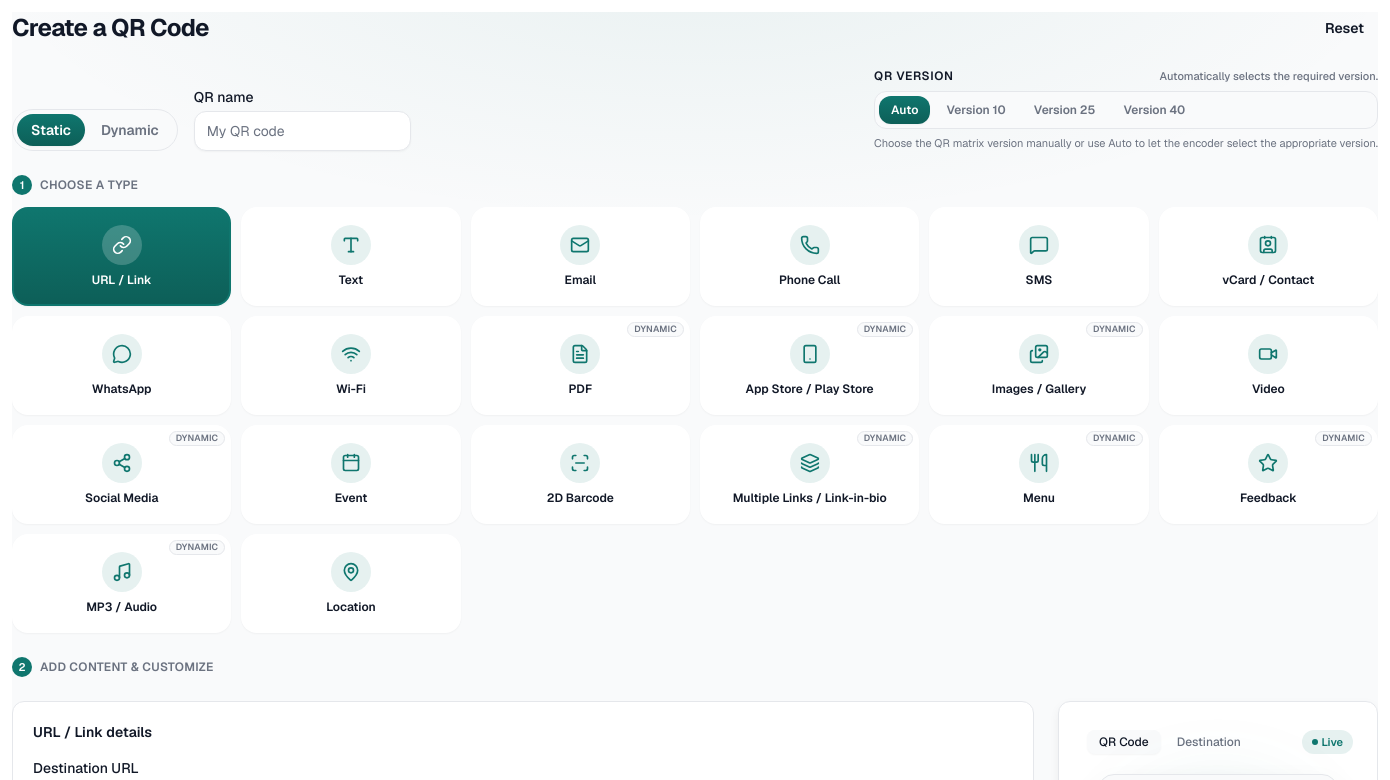
Test: QRGeneratorShell › clears the name field when Reset is clicked
Type "My QR" into the field labelled "QR name".
click(302, 131); type("My QR")  # box [194,111,411,151]
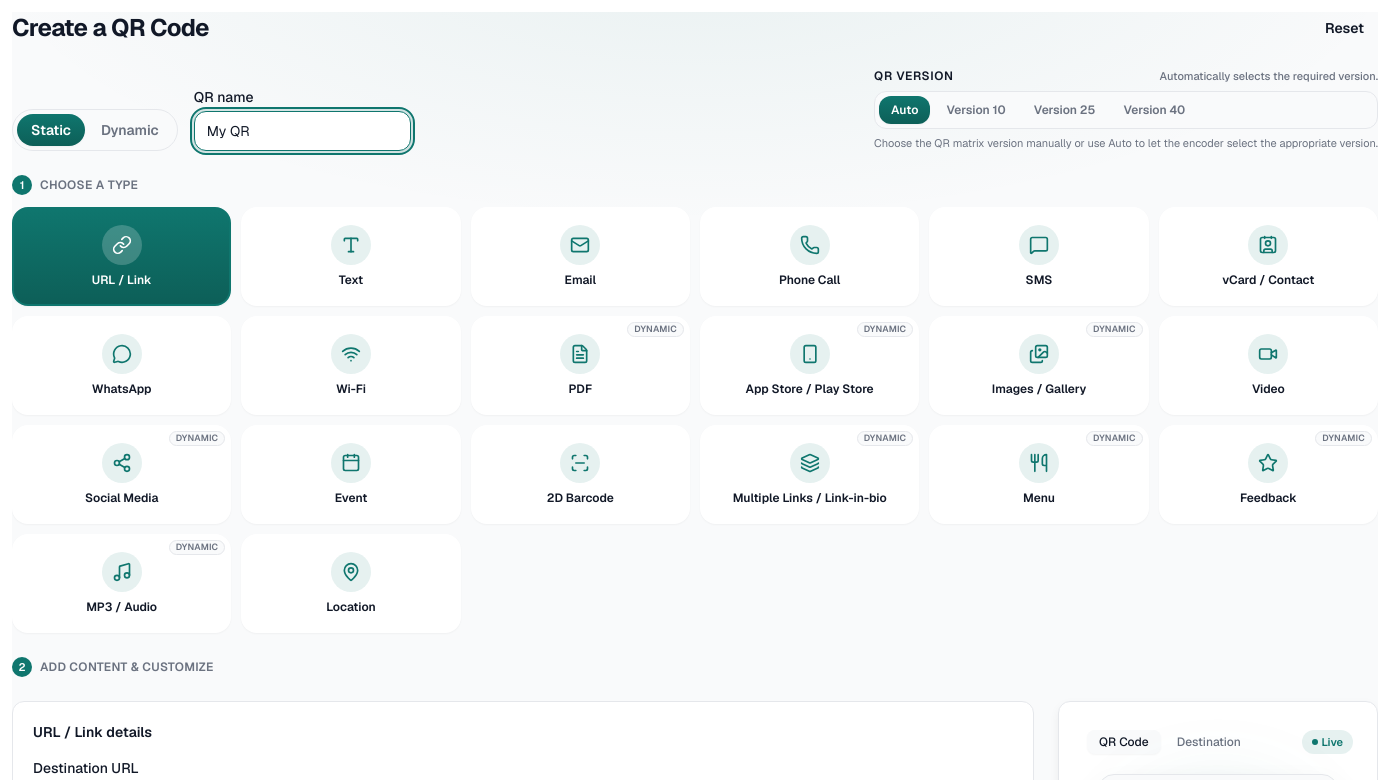
Click the button "Reset".
click(1344, 28)  # box [1311,12,1378,44]
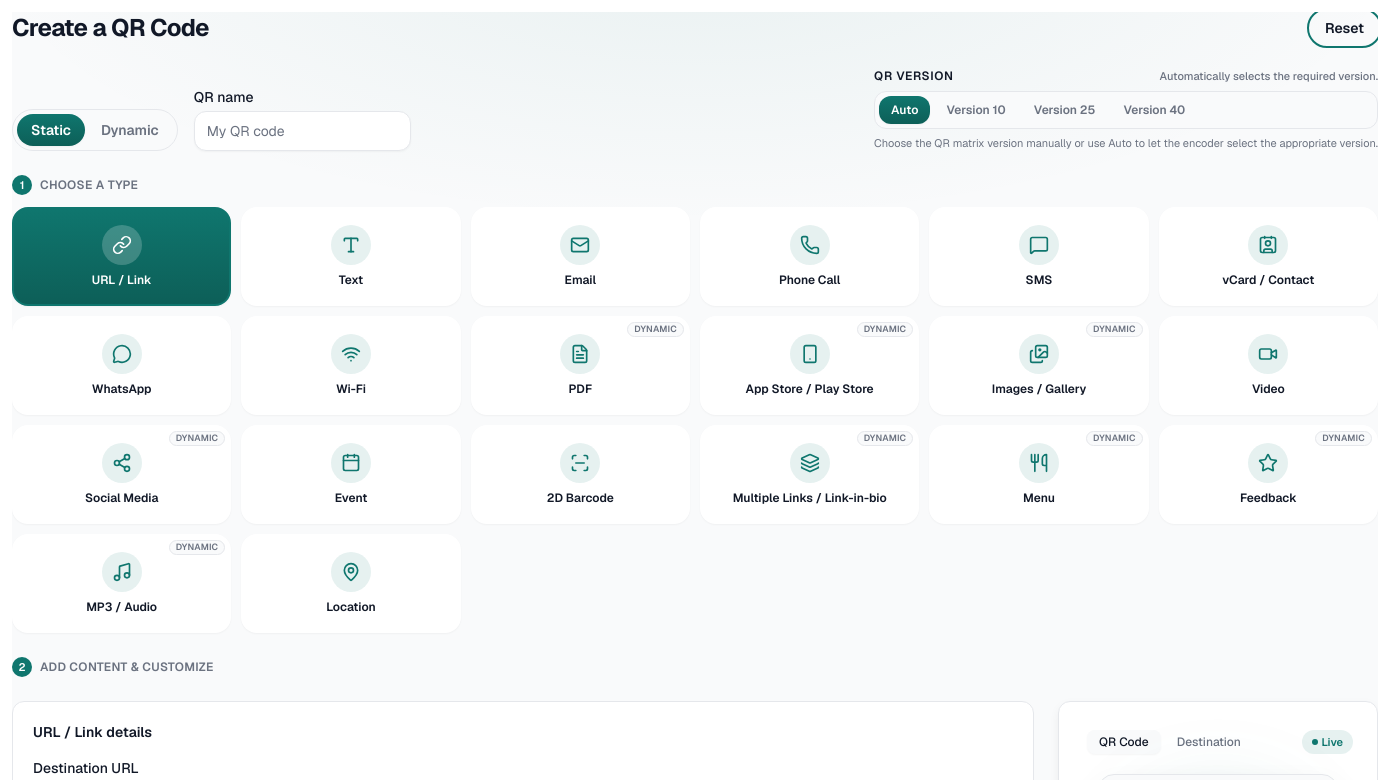
Now the field labelled "QR name" is empty, box [194,111,411,151]
